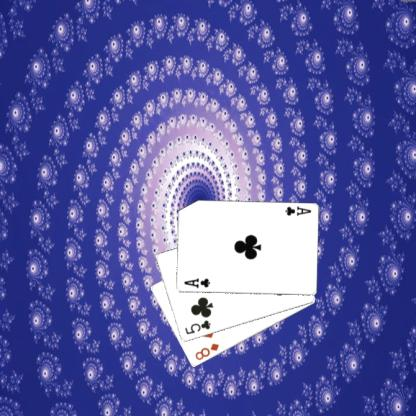5C: (182, 317, 212, 336)
8D: (192, 341, 220, 361)
AC: (181, 276, 211, 289), (282, 204, 312, 217)
